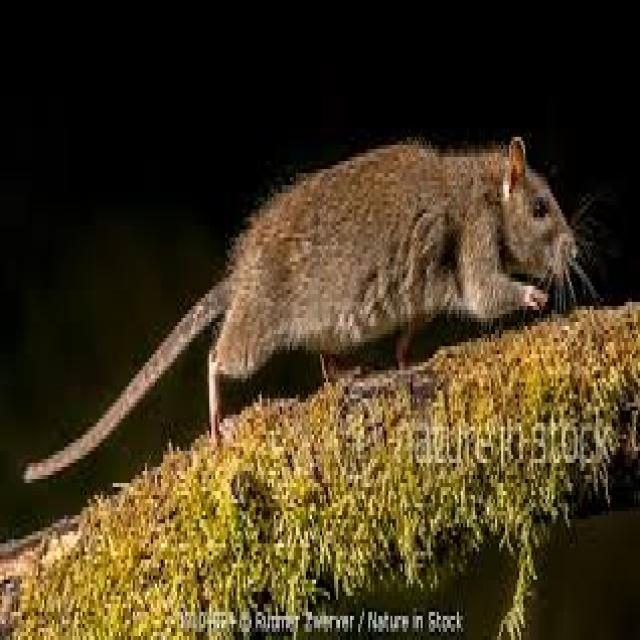rat: (20, 129, 596, 483)
